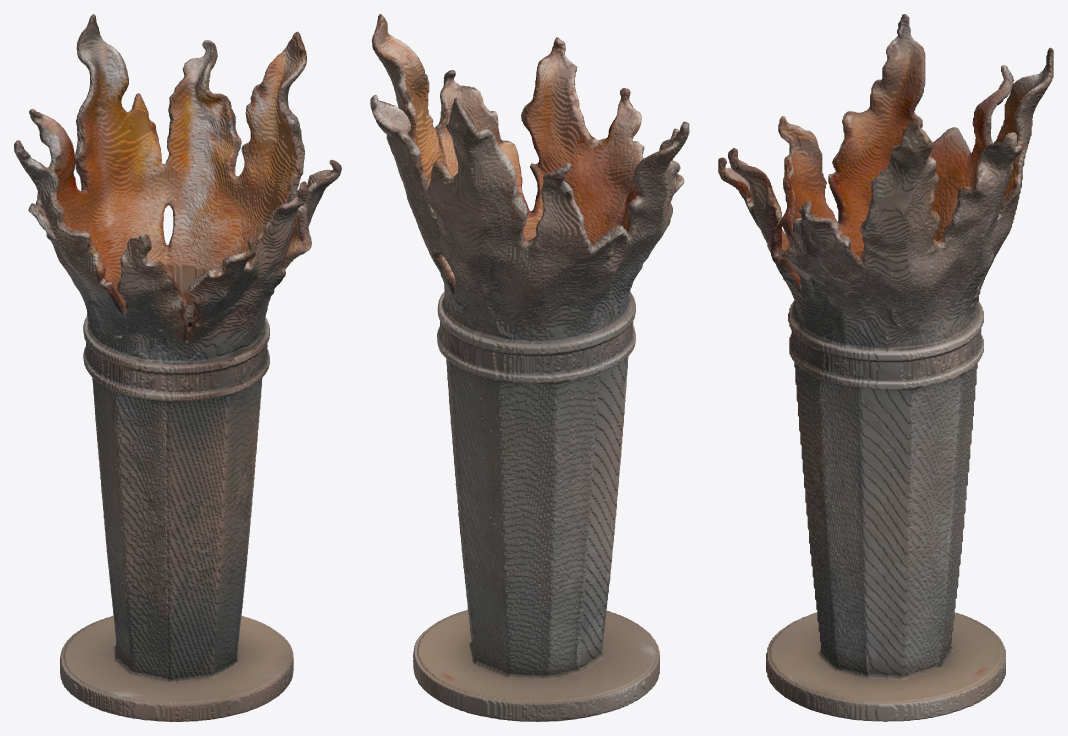
The picture shows the model from 3 angles, left to right: view 1: azimuth 30°, elevation 25°; view 2: azimuth 150°, elevation 25°; view 3: azimuth 270°, elevation 25°; orthographic projection. The views are drawn at different scales.
Visible parts, largest first — view 1: H2_0.6.stl; view 2: H2_0.6.stl; view 3: H2_0.6.stl.
Boxes of the visible parts, x1,y1,x2,y2 form: H2_0.6.stl: (14,14,341,721); H2_0.6.stl: (370,14,689,721); H2_0.6.stl: (718,14,1053,721).
Size of the model in its own units: 142 by 280 by 137.
